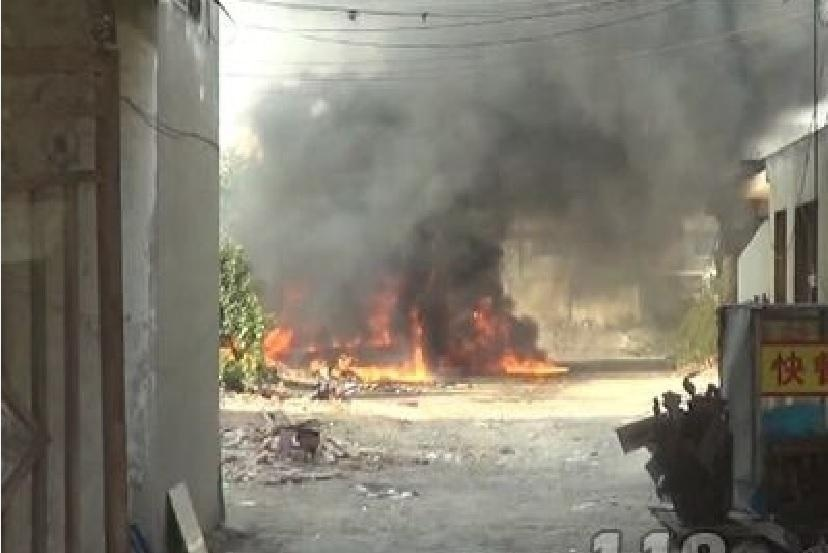fire: (254, 290, 563, 387)
